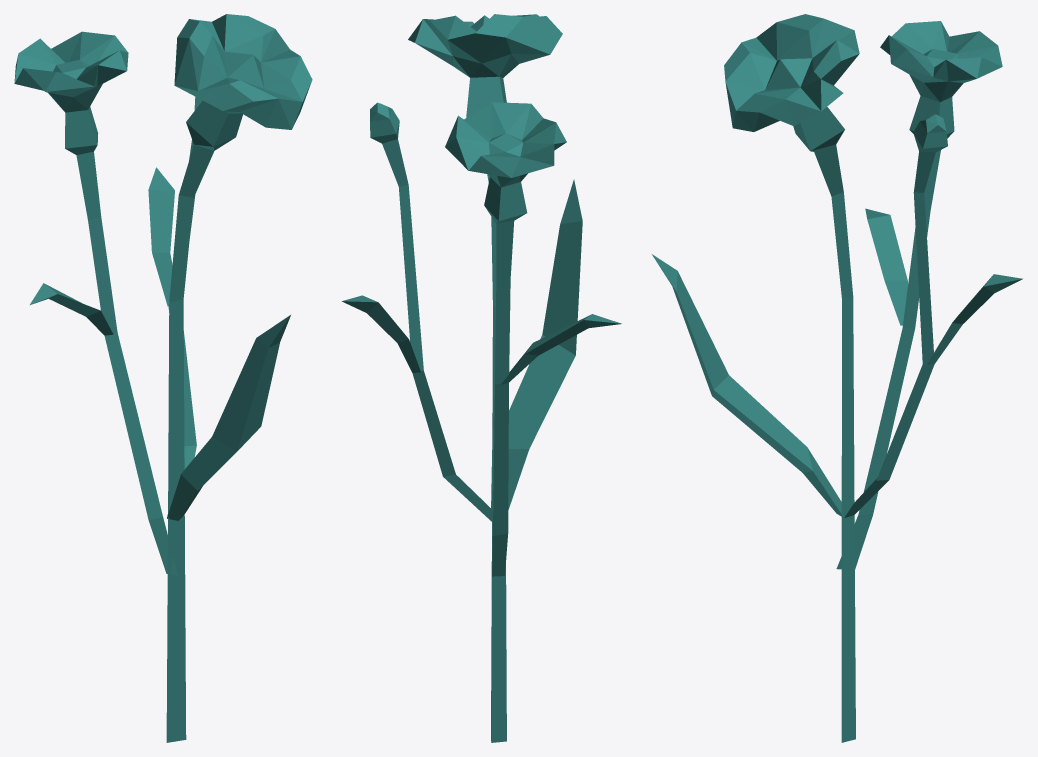
File: SM_Flower_Cornflower_Single_Mature_B.fbx
The picture shows the model from 3 angles, left to right: view 1: azimuth 30°, elevation 25°; view 2: azimuth 150°, elevation 25°; view 3: azimuth 270°, elevation 25°; orthographic projection.
Parts seen in each view (by area): view 1: flower-cornflower-single-mature-b; view 2: flower-cornflower-single-mature-b; view 3: flower-cornflower-single-mature-b.
Part boxes in pixels (left/top/right/bottom): flower-cornflower-single-mature-b: left=14, top=14, right=312, bottom=742; flower-cornflower-single-mature-b: left=342, top=14, right=621, bottom=742; flower-cornflower-single-mature-b: left=652, top=14, right=1022, bottom=742.
Size of the model in its own units: 0.2234 by 0.6455 by 0.2998.
